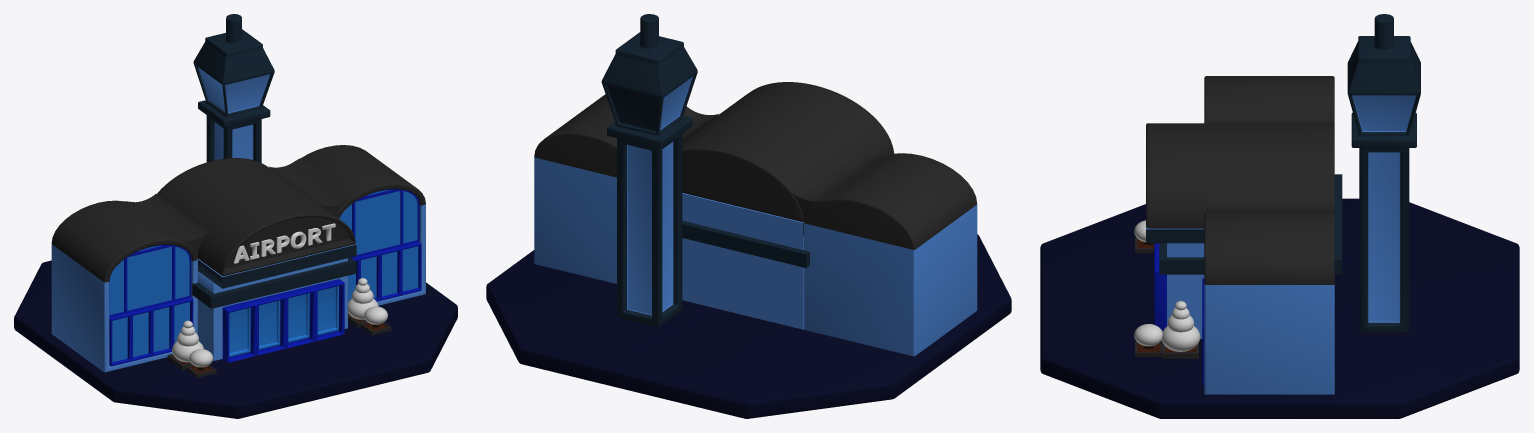
File: 14-airport.fbx
3 renders of one model, left to right at view 1: azimuth 30°, elevation 25°; view 2: azimuth 150°, elevation 25°; view 3: azimuth 270°, elevation 25°, orthographic. The views are drawn at different scales.
Parts seen in each view (by area): view 1: Cube_065, Cube_187, Cylinder_013, Cube_189, Cube_190, Cube_186, Plane_044, Plane_042, Cylinder_012, Plane_041, Plane_043, Text_010; view 2: Cube_187, Cube_065, Cube_190, Cylinder_013, Cube_186, Cylinder_012; view 3: Cube_065, Cube_187, Cube_190, Cylinder_013, Cube_186, Cylinder_012, Plane_041, Sphere_117, Sphere_121.
Part boxes in pixels (x1,y1,x2,y2): Cube_065: (14, 260, 457, 418); Cube_187: (51, 145, 425, 372); Cylinder_013: (157, 158, 355, 276); Cube_189: (109, 189, 419, 317); Cube_190: (193, 14, 274, 162); Cube_186: (192, 244, 356, 360); Plane_044: (112, 246, 418, 362); Plane_042: (229, 286, 338, 356); Cylinder_012: (125, 158, 351, 255); Plane_041: (222, 279, 344, 362); Plane_043: (109, 242, 421, 366); Text_010: (233, 223, 335, 263); Cube_187: (534, 94, 977, 356); Cube_065: (486, 234, 1011, 418); Cube_190: (601, 14, 697, 327); Cylinder_013: (682, 82, 894, 221); Cube_186: (682, 193, 809, 329); Cylinder_012: (682, 107, 889, 222); Cube_065: (1040, 198, 1519, 418); Cube_187: (1204, 76, 1334, 394); Cube_190: (1347, 14, 1420, 332); Cylinder_013: (1146, 123, 1334, 228); Cube_186: (1146, 174, 1342, 338); Cylinder_012: (1207, 107, 1334, 212); Plane_041: (1154, 243, 1166, 331); Sphere_117: (1162, 326, 1200, 351); Sphere_121: (1134, 324, 1162, 346).
Size of the model in its own units: 726 by 535 by 716.
